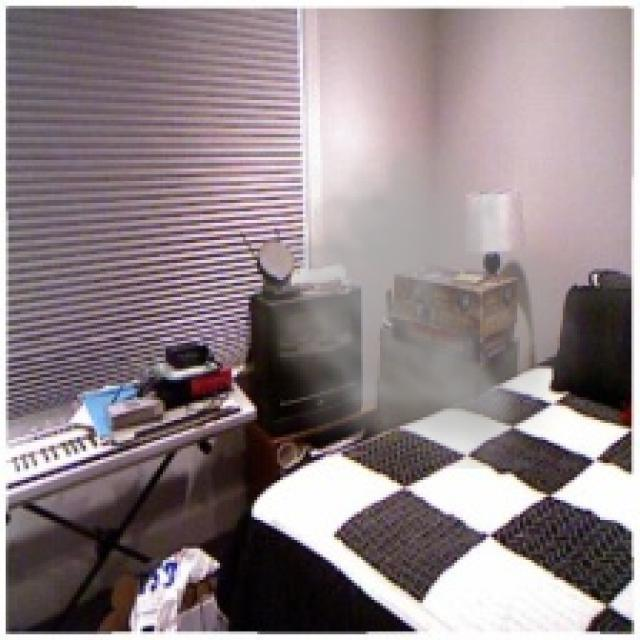Smoke: (237, 106, 600, 468)
